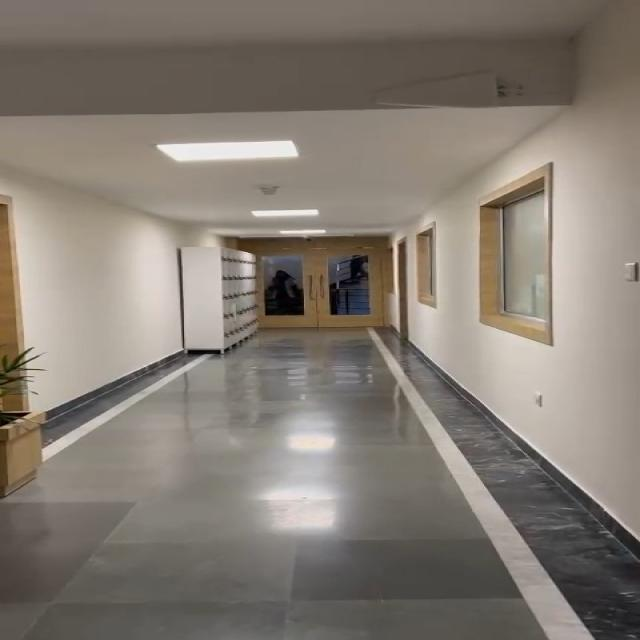door: (235, 219, 388, 328)
floor: (0, 486, 640, 640), (129, 367, 460, 485), (243, 331, 400, 374)
wall: (400, 198, 640, 394), (17, 193, 195, 370)
